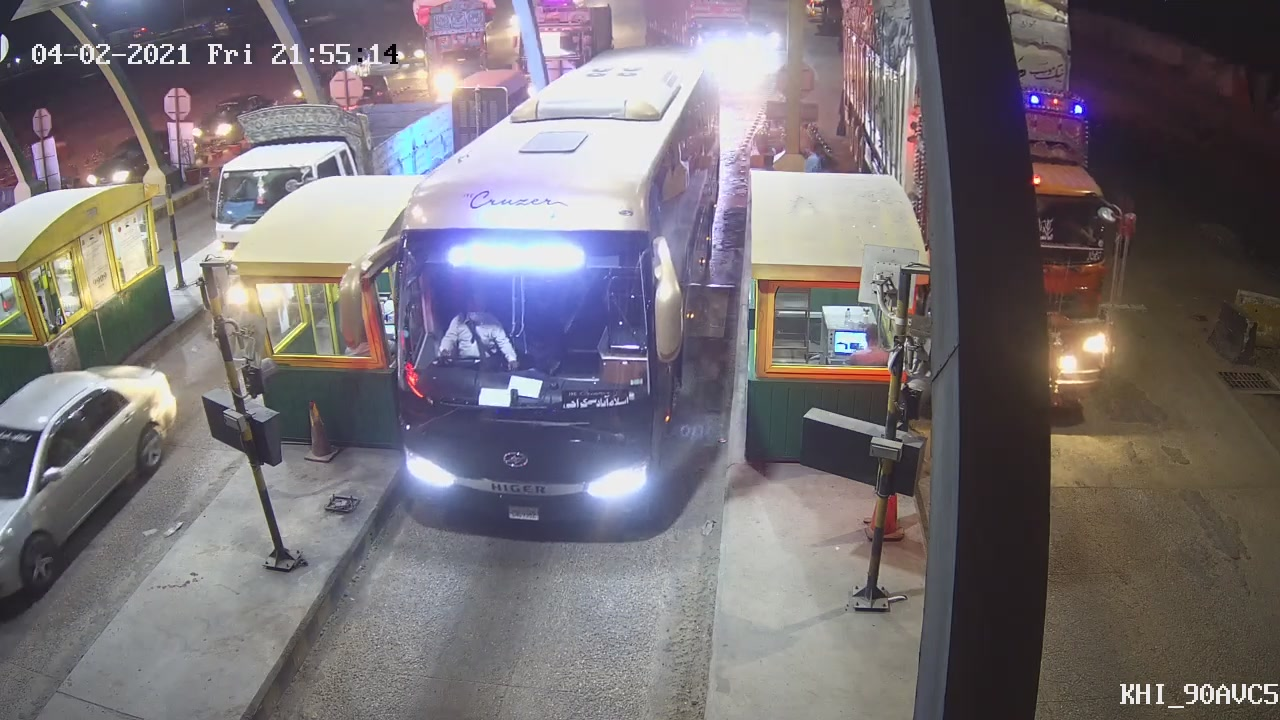F4: (392, 35, 734, 533)
